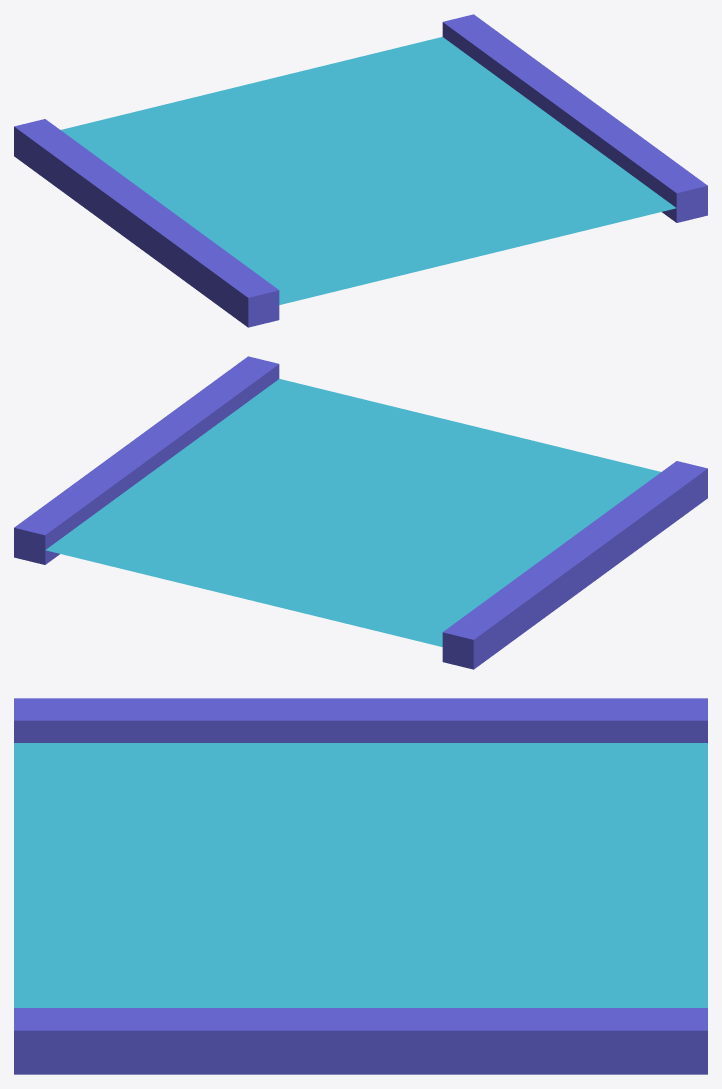
File: path_walk_1.fbx
The picture shows the model from 3 angles, top to bottom: view 1: azimuth 30°, elevation 25°; view 2: azimuth 150°, elevation 25°; view 3: azimuth 270°, elevation 25°; orthographic projection. The views are drawn at different scales.
Visible parts, largest first — view 1: Path, Path Support.002, Path Support.003; view 2: Path, Path Support.002, Path Support.003; view 3: Path, Path Support.003, Path Support.002.
Boxes of the visible parts, x1,y1,x2,y2 form: Path: [61, 37, 676, 304]; Path Support.002: [14, 119, 279, 327]; Path Support.003: [442, 14, 707, 222]; Path: [45, 379, 660, 646]; Path Support.002: [442, 461, 707, 669]; Path Support.003: [14, 356, 279, 564]; Path: [14, 743, 707, 1007]; Path Support.003: [14, 1008, 707, 1074]; Path Support.002: [14, 698, 707, 742].
Bounding box in the file's own units: 484 × 29.95 × 427.
